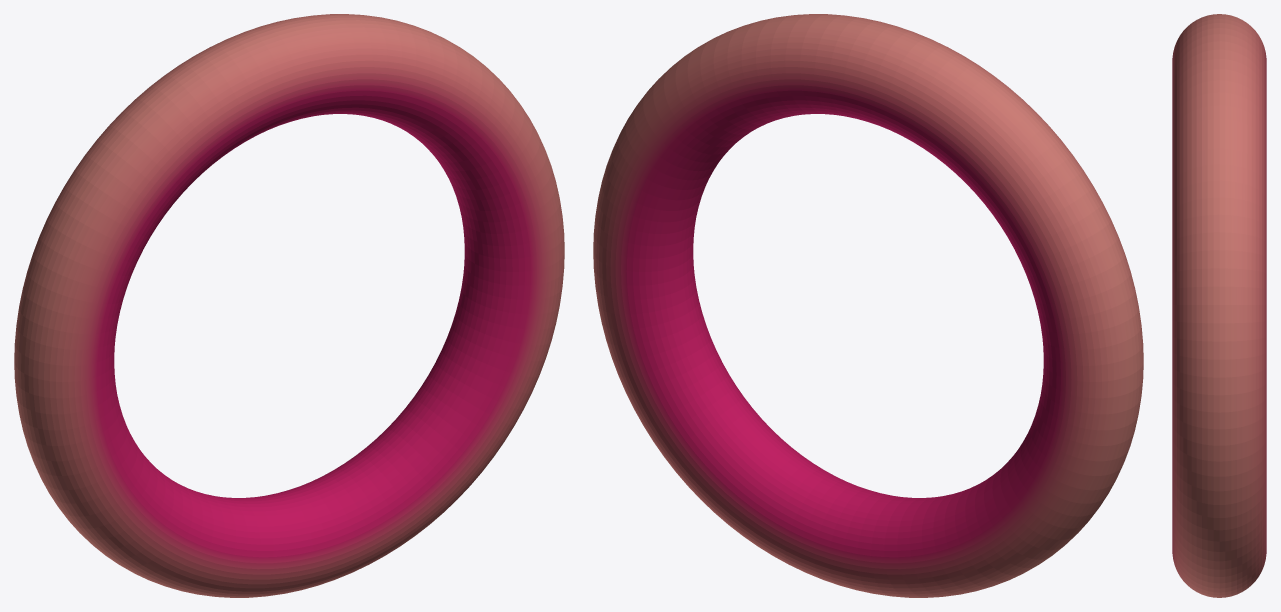
3 views of the same model, side by side, from view 1: azimuth 30°, elevation 25°; view 2: azimuth 150°, elevation 25°; view 3: azimuth 270°, elevation 25° (orthographic). The views are drawn at different scales.
Parts seen in each view (by area): view 1: world; view 2: world; view 3: world.
Part boxes in pixels (bbox=[...]): world: bbox=[14, 14, 564, 597]; world: bbox=[593, 14, 1143, 597]; world: bbox=[1172, 14, 1266, 597].
Bounding box in the file's own units: 20.67 × 20.67 × 3.33.
